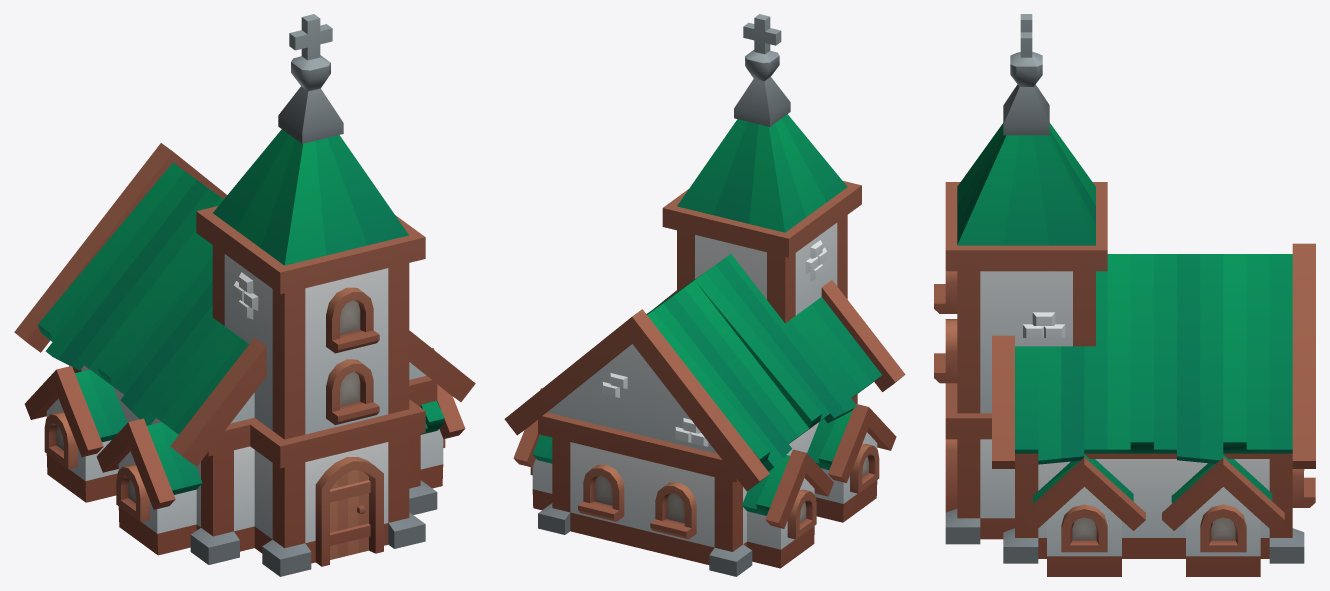
The model's file is building_church_green.glb.
3 renders of one model, left to right at view 1: azimuth 30°, elevation 25°; view 2: azimuth 150°, elevation 25°; view 3: azimuth 270°, elevation 25°, orthographic. The views are drawn at different scales.
Visible parts, largest first — view 1: building_church_green; view 2: building_church_green; view 3: building_church_green.
Boxes of the visible parts, bbox=[...] form: building_church_green: bbox=[14, 14, 475, 576]; building_church_green: bbox=[504, 14, 905, 576]; building_church_green: bbox=[934, 14, 1315, 576].
Size of the model in its own units: 1.03 by 1.65 by 1.16.
1 material, 1 textured.
